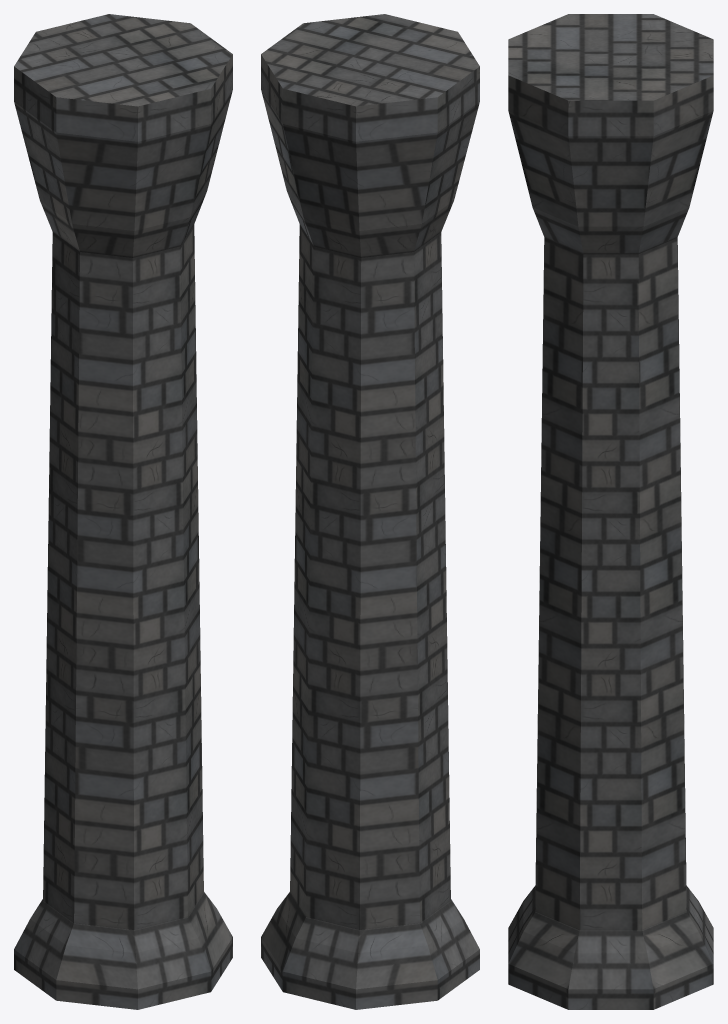
Rendered from kit_pillar.glb.
The picture shows the model from 3 angles, left to right: view 1: azimuth 30°, elevation 25°; view 2: azimuth 150°, elevation 25°; view 3: azimuth 270°, elevation 25°; orthographic projection.
Parts seen in each view (by area): view 1: kit_pillar; view 2: kit_pillar; view 3: kit_pillar.
Boxes of the visible parts, x1,y1,x2,y2 form: kit_pillar: (14, 14, 232, 1009); kit_pillar: (261, 14, 479, 1009); kit_pillar: (508, 14, 713, 1009).
Bounding box in the file's own units: 1.26 × 6.14 × 1.26.
Materials: 1 (1 with a texture image).
